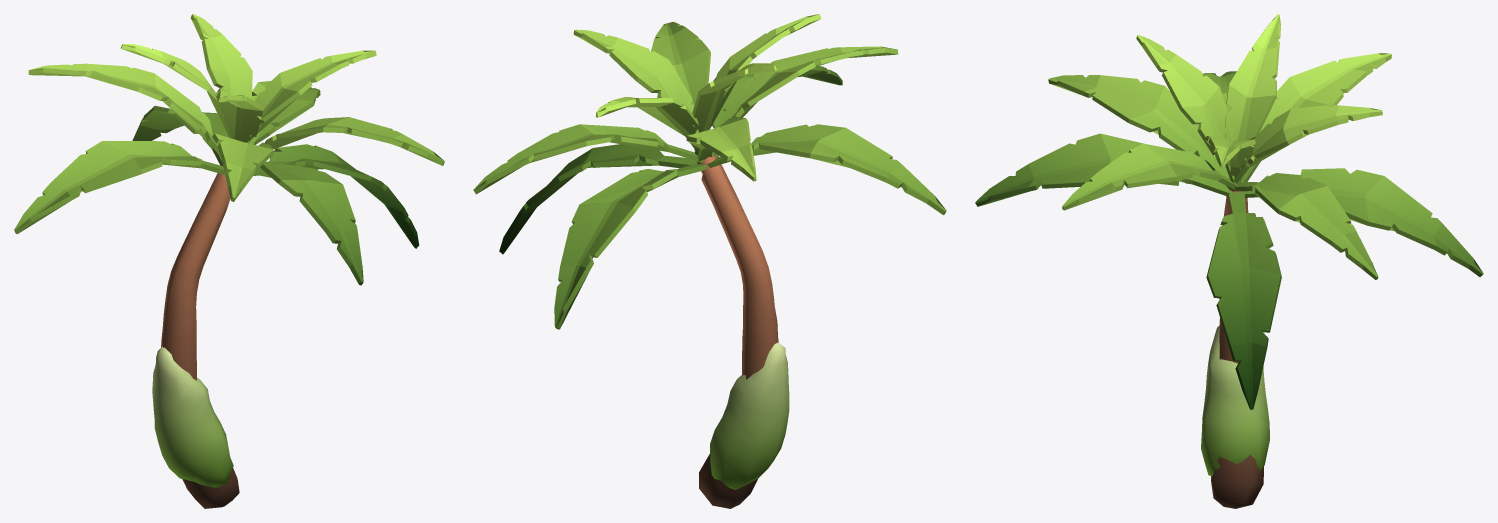
The model's file is PalmTrees_3.fbx.
The picture shows the model from 3 angles, left to right: view 1: azimuth 30°, elevation 25°; view 2: azimuth 150°, elevation 25°; view 3: azimuth 270°, elevation 25°; orthographic projection. The views are drawn at different scales.
Visible parts, largest first — view 1: PalmTrees_4; view 2: PalmTrees_4; view 3: PalmTrees_4.
Part boxes in pixels (box(x1,y1,x2,y2)): PalmTrees_4: box(14, 14, 444, 508); PalmTrees_4: box(473, 14, 946, 508); PalmTrees_4: box(975, 14, 1483, 508).
Size of the model in its own units: 809 by 851 by 853.
